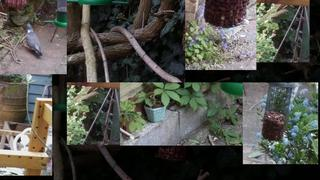wood pigeon: (25, 24, 43, 57)
